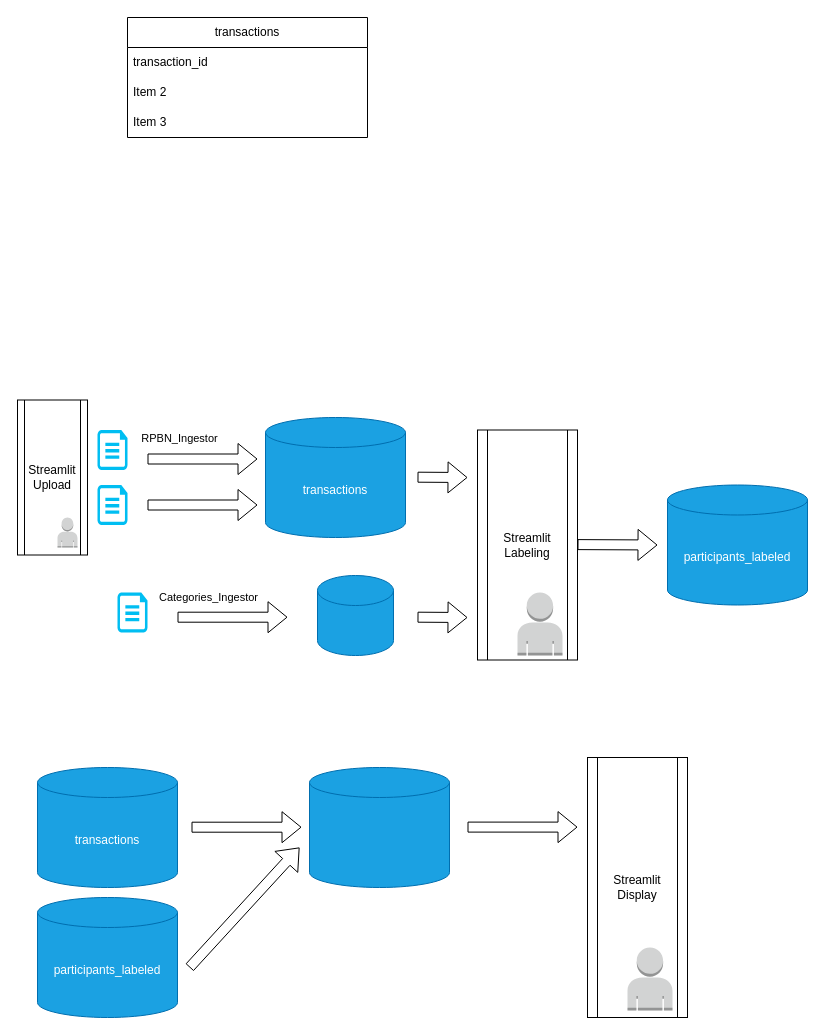
The diagram is 825 pixels wide and 1035 high, and some of its shapes have lost their labels. The shapes that lost their labels are listed below. From the top down, each one's centre as x and y in pixels, then its label:
At (x=355, y=615): "transaction_categories".
At (x=379, y=827): "transactions_labeled".
